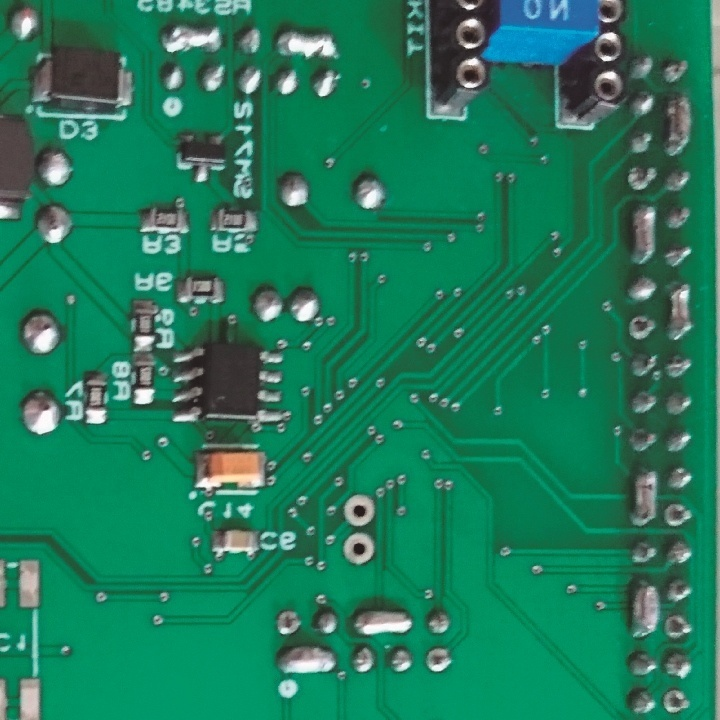F: (340, 492, 379, 528), (339, 533, 376, 566), (661, 686, 691, 720), (627, 163, 659, 193), (424, 644, 454, 675), (662, 500, 693, 530), (627, 313, 655, 343), (274, 608, 301, 639), (663, 613, 693, 640)
P: (350, 603, 412, 640), (275, 24, 336, 61), (274, 643, 336, 679), (161, 19, 223, 54), (628, 577, 660, 641), (666, 276, 696, 341), (666, 92, 693, 158), (629, 199, 663, 250), (631, 466, 657, 527)
